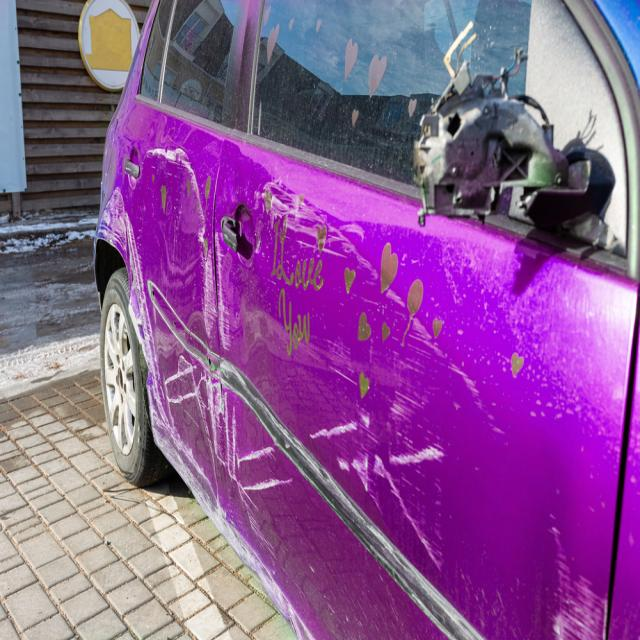scratch: (264, 183, 496, 576), (98, 197, 224, 520), (220, 359, 312, 640), (144, 139, 218, 338), (548, 512, 606, 640), (215, 229, 232, 350)
